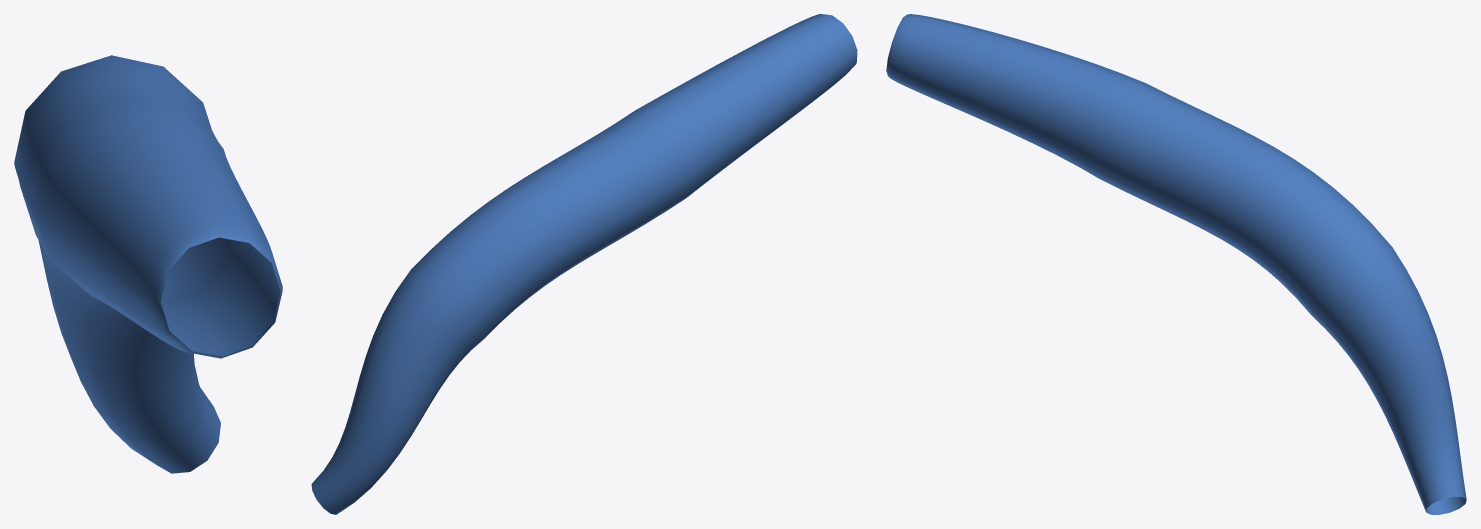
3 views of the same model, side by side, from view 1: azimuth 30°, elevation 25°; view 2: azimuth 150°, elevation 25°; view 3: azimuth 270°, elevation 25° (orthographic). The views are drawn at different scales.
Parts seen in each view (by area): view 1: 右侧乙状窦; view 2: 右侧乙状窦; view 3: 右侧乙状窦.
Boxes of the visible parts, x1,y1,x2,y2 form: 右侧乙状窦: (14, 55, 282, 473); 右侧乙状窦: (311, 14, 857, 514); 右侧乙状窦: (886, 14, 1466, 514).
Size of the model in its own units: 0.0237 by 0.029 by 0.0402.
